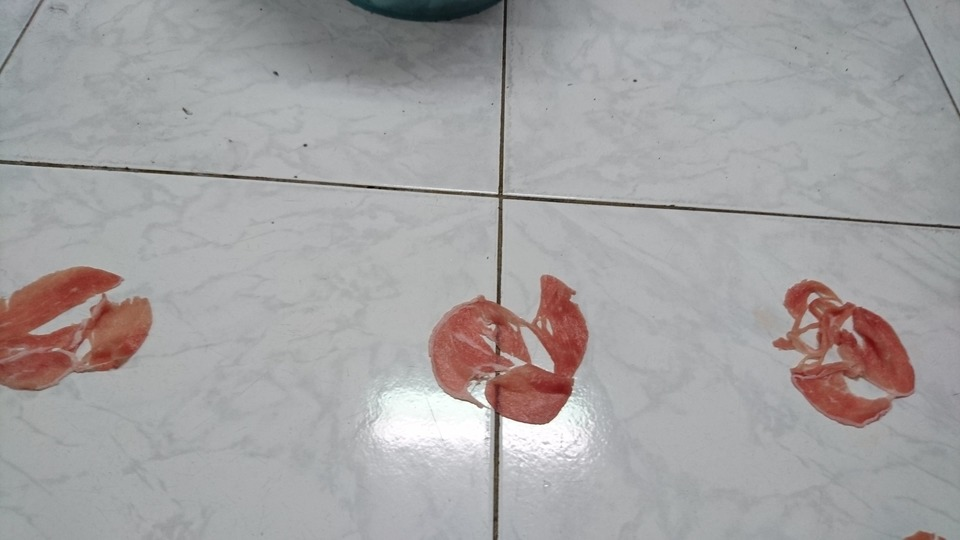restructured meat: (421, 266, 596, 424), (750, 277, 921, 429), (2, 267, 152, 394)
